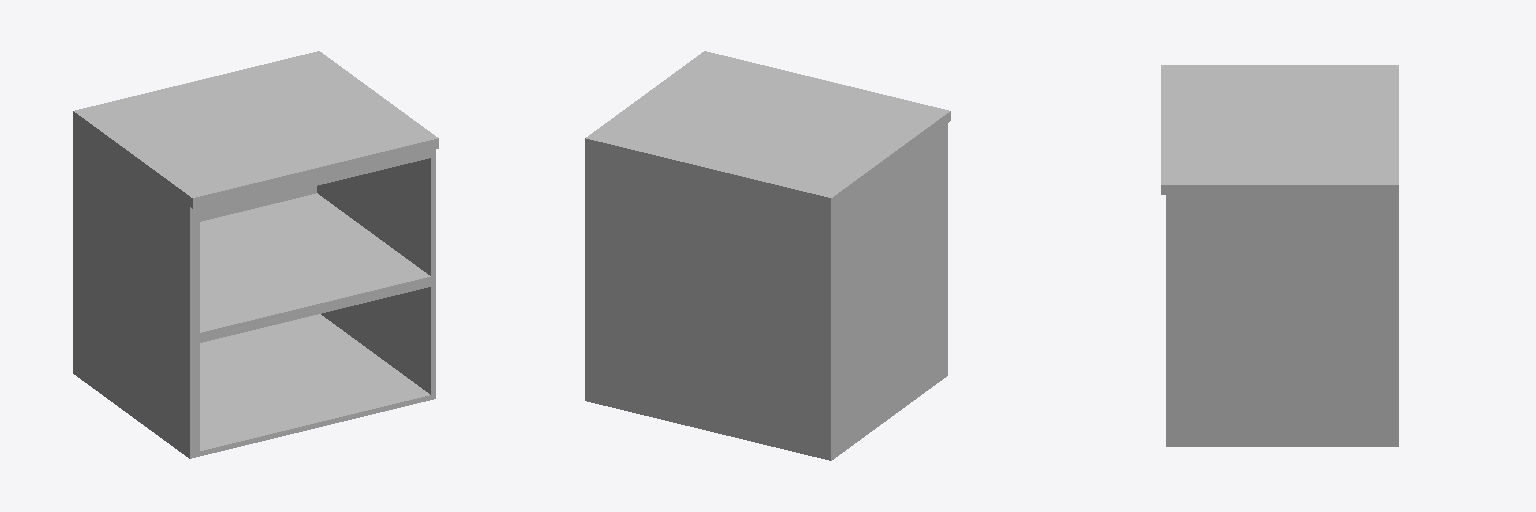
File: KitchenShelf2.obj
3 views of the same model, side by side, from view 1: azimuth 30°, elevation 25°; view 2: azimuth 150°, elevation 25°; view 3: azimuth 270°, elevation 25° (orthographic).
Parts seen in each view (by area): view 1: KitchenShelf2; view 2: KitchenShelf2; view 3: KitchenShelf2.
Part boxes in pixels (left/top/right/bottom): KitchenShelf2: left=73, top=51, right=438, bottom=458; KitchenShelf2: left=585, top=51, right=950, bottom=460; KitchenShelf2: left=1161, top=65, right=1398, bottom=446.
Bounding box in the file's own units: 50 × 51 × 42.